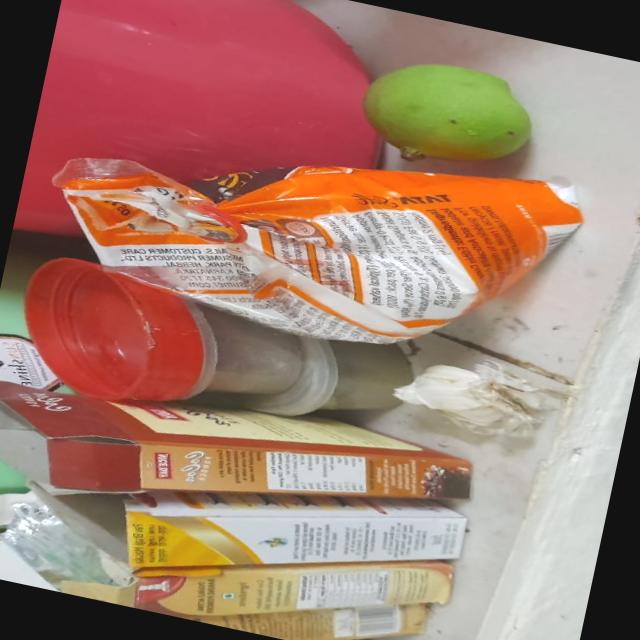Plastic - Recyclable: (28, 72, 592, 388)
